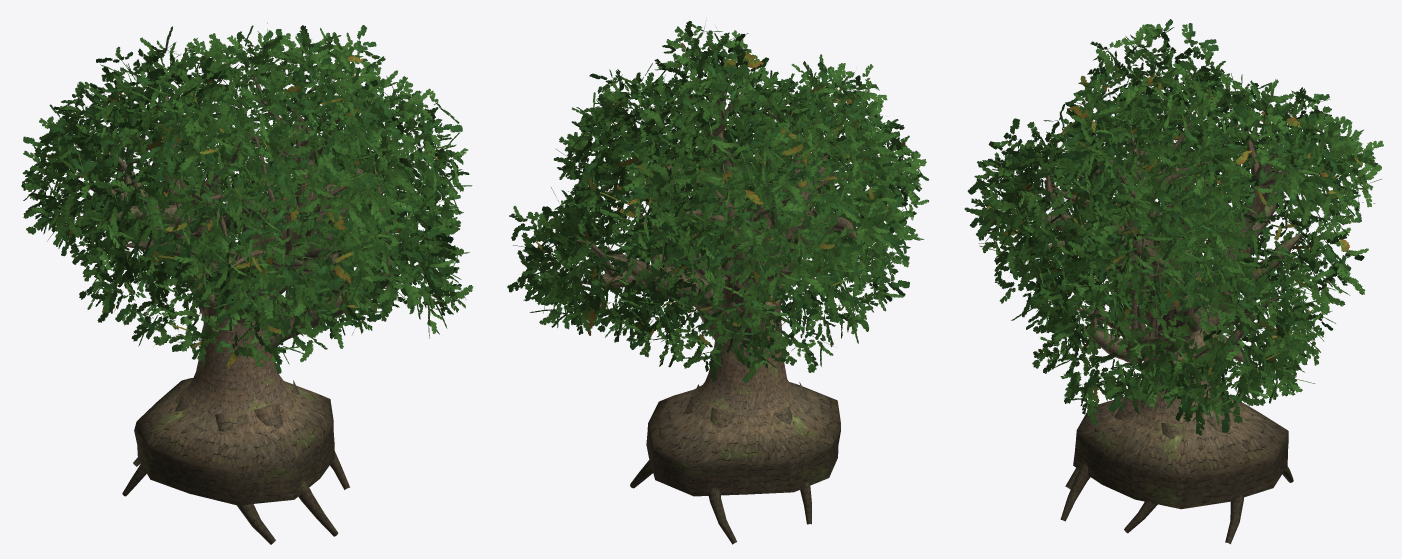
File: hero-oak-c-near.glb
The picture shows the model from 3 angles, left to right: view 1: azimuth 30°, elevation 25°; view 2: azimuth 150°, elevation 25°; view 3: azimuth 270°, elevation 25°; orthographic projection. The views are drawn at different scales.
Visible parts, largest first — view 1: Foliage, Wood; view 2: Foliage, Wood; view 3: Foliage, Wood.
Boxes of the visible parts, x1,y1,x2,y2 form: Foliage: [21, 22, 473, 373]; Wood: [89, 62, 395, 544]; Foliage: [507, 20, 928, 383]; Wood: [576, 79, 868, 544]; Foliage: [964, 19, 1383, 435]; Wood: [1032, 107, 1333, 544].
Bounding box in the file's own units: 18.92 × 20.7 × 17.52.
Materials: 2 (2 with a texture image).
